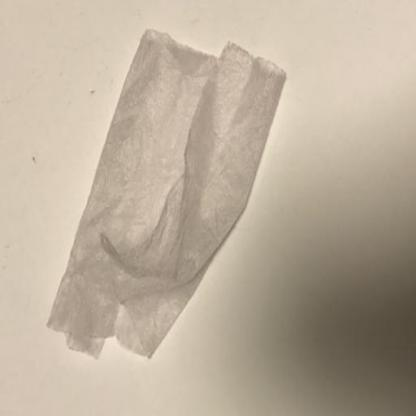trash: (45, 30, 288, 358)
